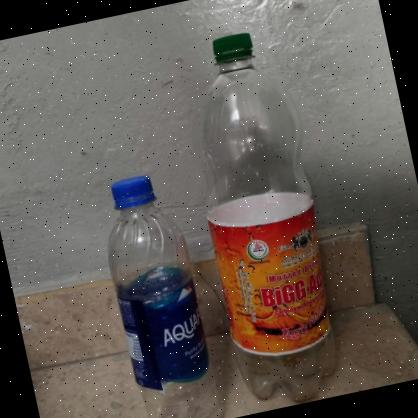bottle: (166, 21, 360, 415), (87, 167, 227, 418)
cap: (208, 26, 260, 68), (108, 173, 158, 214)
label: (211, 192, 339, 361), (113, 270, 214, 395)
